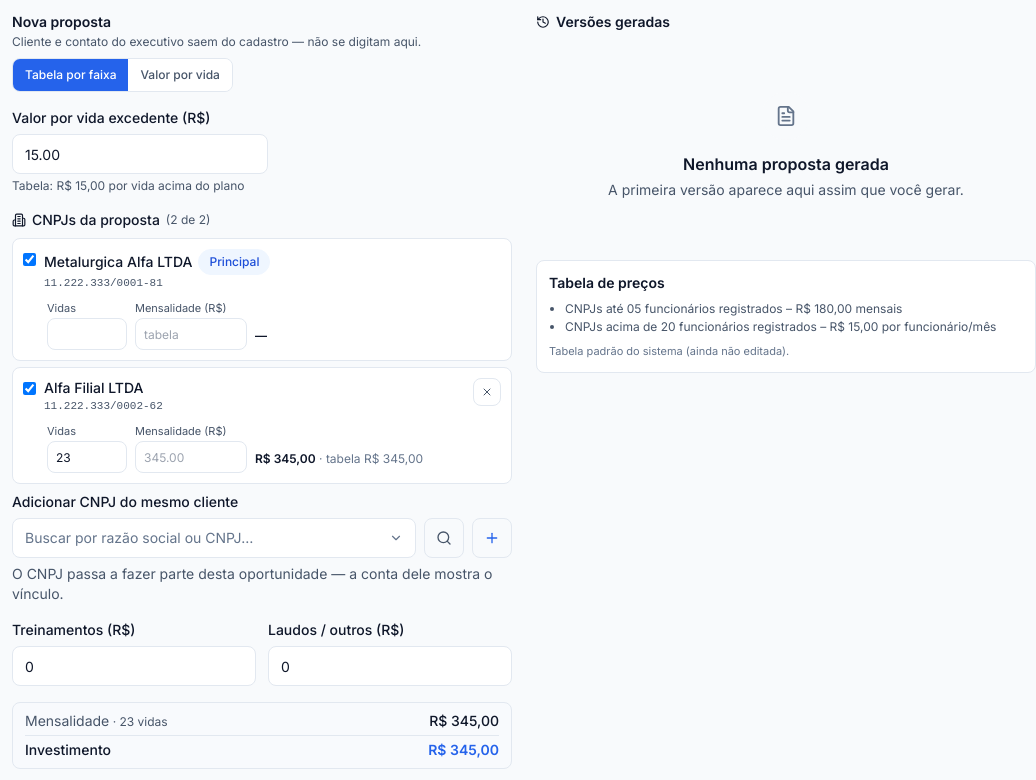
AbaProposta — vários CNPJs › valor negociado abaixo da tabela mostra o desconto
In the number field named "Mensalidade de Alfa Filial LTDA": [191, 457] box [135,441,247,473], type "299"
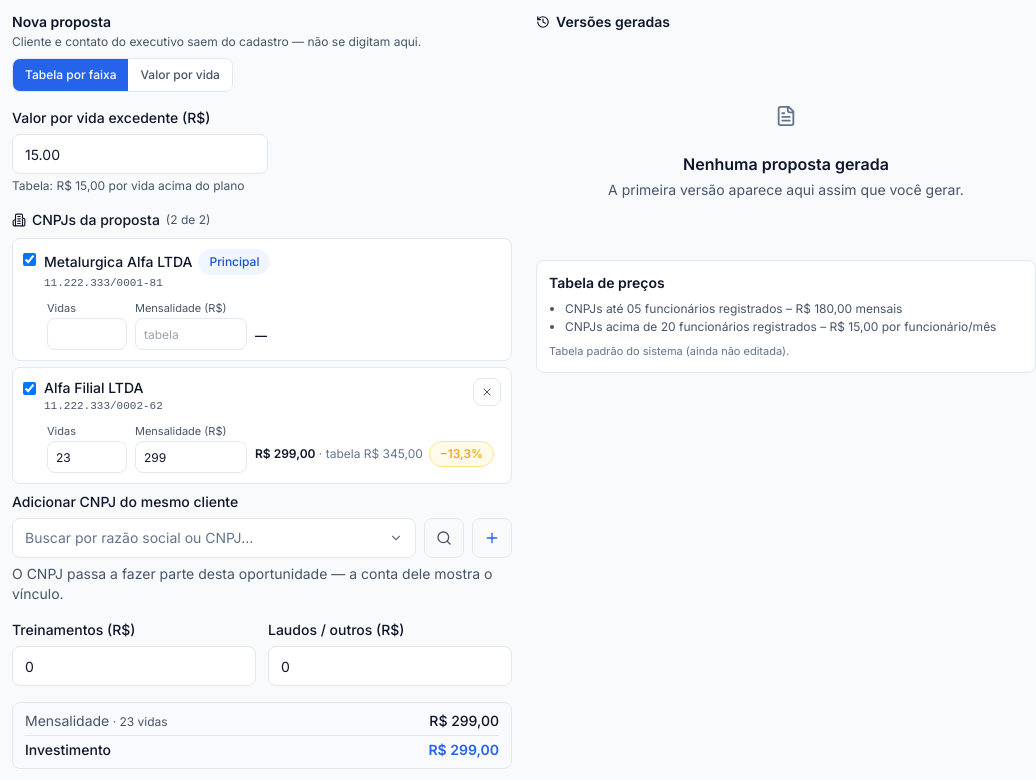
Expected: the text "−13,3%" is shown, [429,441,494,467]
